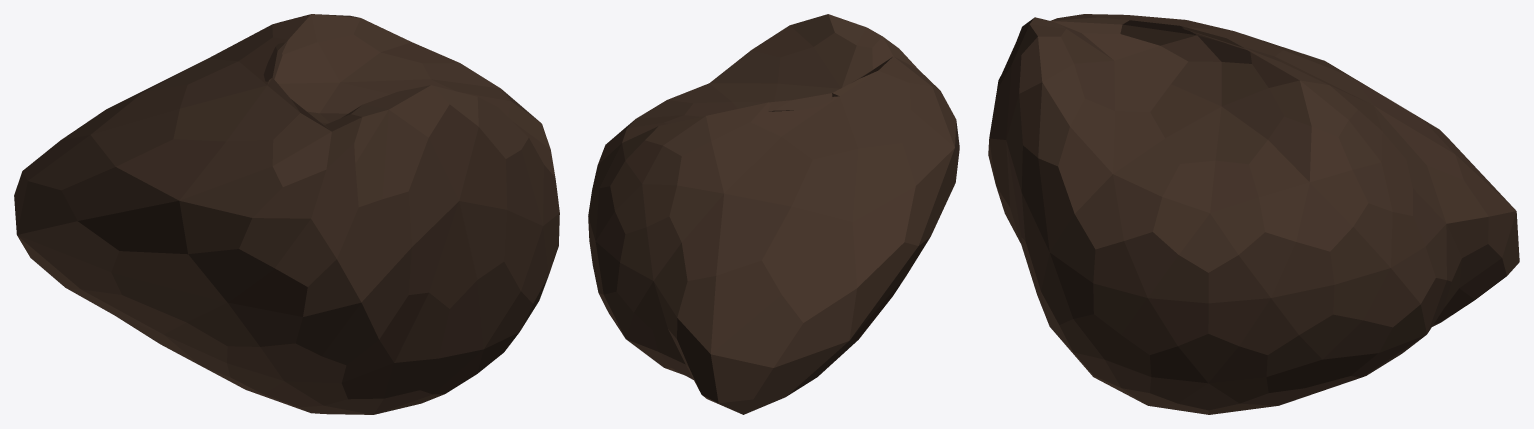
The model's file is iwa.fbx.
3 views of the same model, side by side, from view 1: azimuth 30°, elevation 25°; view 2: azimuth 150°, elevation 25°; view 3: azimuth 270°, elevation 25° (orthographic). The views are drawn at different scales.
Visible parts, largest first — view 1: 円錐; view 2: 円錐; view 3: 円錐.
Part boxes in pixels (x1=…): 円錐: x1=14, y1=14, x2=559, y2=414; 円錐: x1=588, y1=14, x2=959, y2=414; 円錐: x1=988, y1=14, x2=1519, y2=414.
Size of the model in its own units: 218 by 186 by 251.
